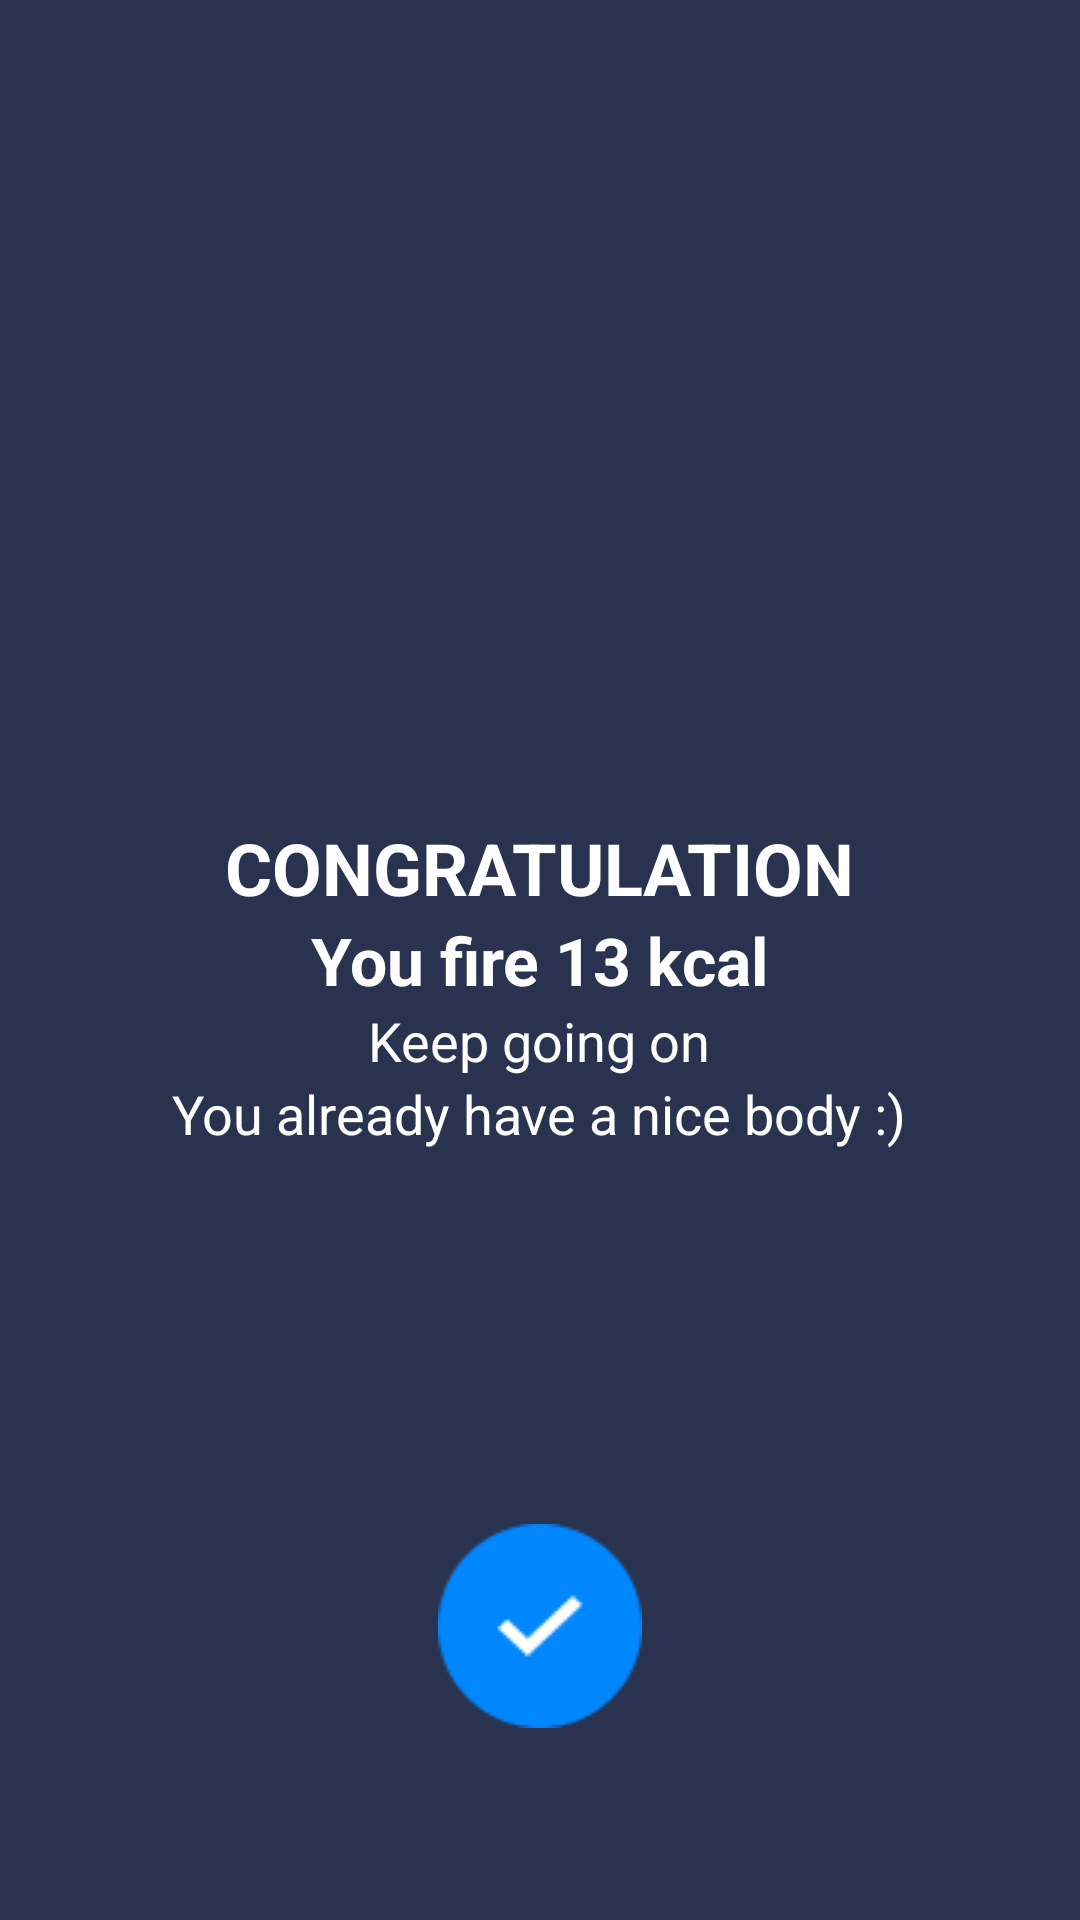

Where to tap for icons on this 1080×1920 app screen, as (x,y):
goal complete: (540,1626)
